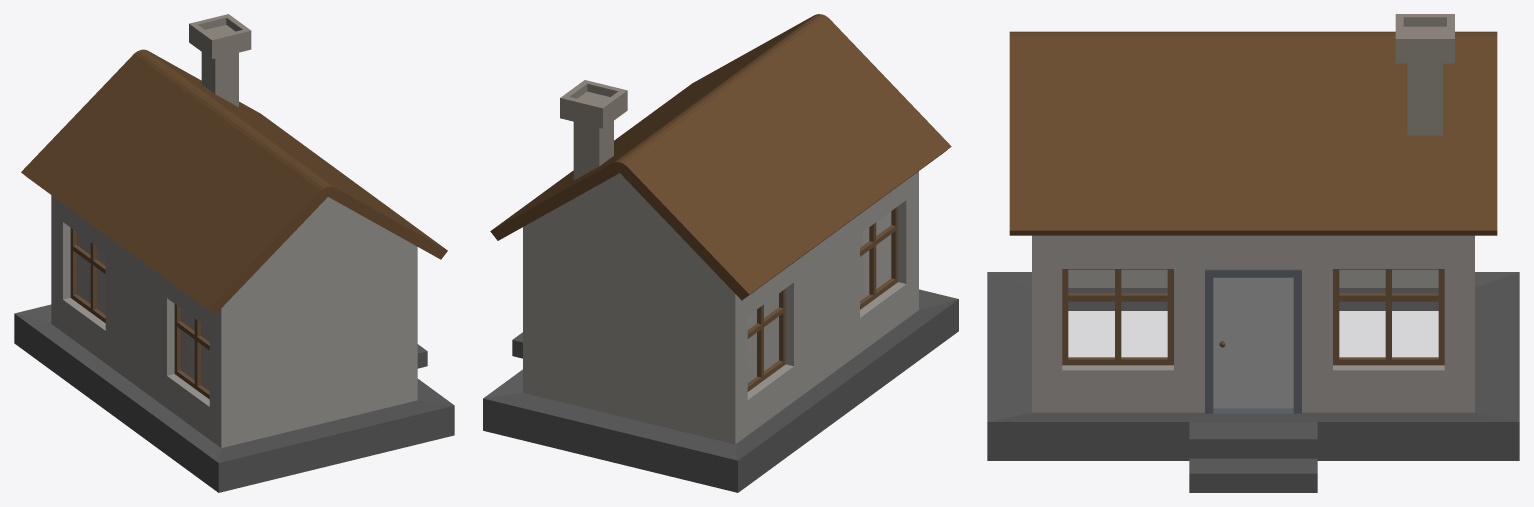
Rendered from house2.glb.
3 views of the same model, side by side, from view 1: azimuth 30°, elevation 25°; view 2: azimuth 150°, elevation 25°; view 3: azimuth 270°, elevation 25° (orthographic). The views are drawn at different scales.
Parts seen in each view (by area): view 1: Cube, Roof, Windows, Chimney; view 2: Cube, Roof, Chimney, Windows; view 3: Roof, Cube, Windows, Door, Chimney.
Boxes of the visible parts, x1=… form: Cube: x1=14, y1=195, x2=454, y2=492; Roof: x1=21, y1=49, x2=447, y2=314; Windows: x1=70, y1=228, x2=209, y2=399; Chimney: x1=189, y1=14, x2=251, y2=107; Cube: x1=483, y1=171, x2=958, y2=492; Roof: x1=490, y1=14, x2=951, y2=300; Chimney: x1=560, y1=80, x2=627, y2=180; Windows: x1=747, y1=206, x2=897, y2=391; Roof: x1=1009, y1=31, x2=1497, y2=235; Cube: x1=987, y1=235, x2=1519, y2=492; Windows: x1=1062, y1=269, x2=1444, y2=365; Door: x1=1205, y1=269, x2=1301, y2=413; Chimney: x1=1395, y1=14, x2=1454, y2=135.
Bounding box in the file's own units: 5.88 × 5.86 × 7.21.
